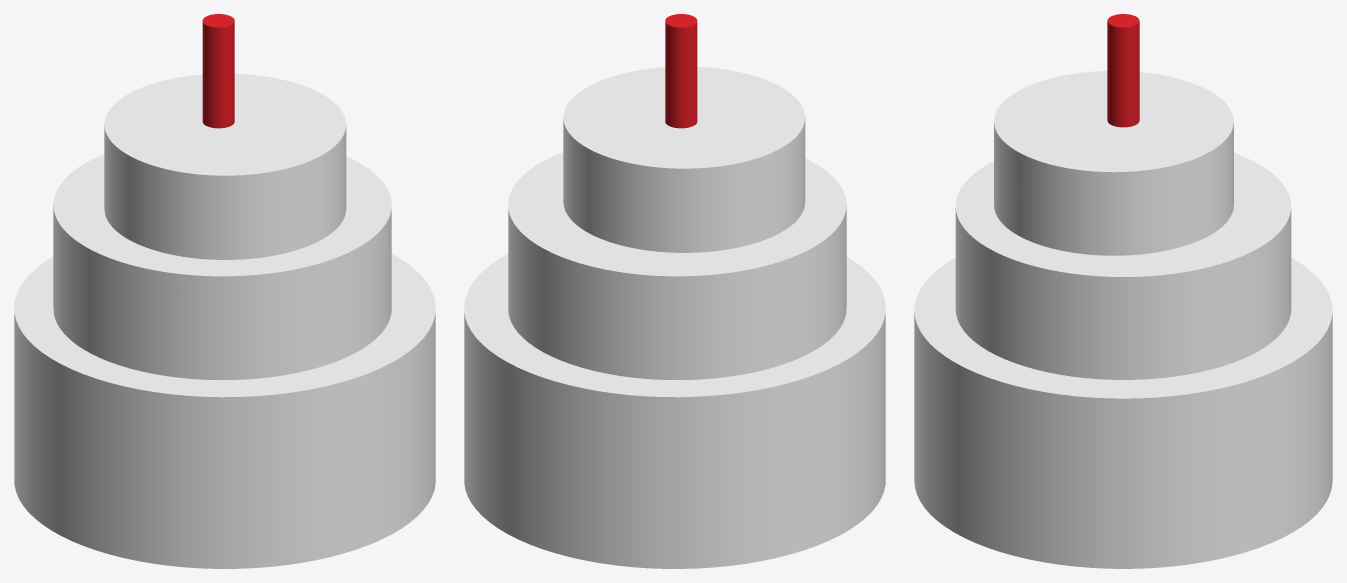
The model's file is cake.fbx.
The picture shows the model from 3 angles, left to right: view 1: azimuth 30°, elevation 25°; view 2: azimuth 150°, elevation 25°; view 3: azimuth 270°, elevation 25°; orthographic projection.
Visible parts, largest first — view 1: root (×4); view 2: root (×4); view 3: root (×4).
Part boxes in pixels (bbox=[...]): root (×4): bbox=[14, 14, 435, 568]; root (×4): bbox=[464, 14, 885, 568]; root (×4): bbox=[914, 14, 1332, 568].
Size of the model in its own units: 0.3961 by 0.4773 by 0.3961.
